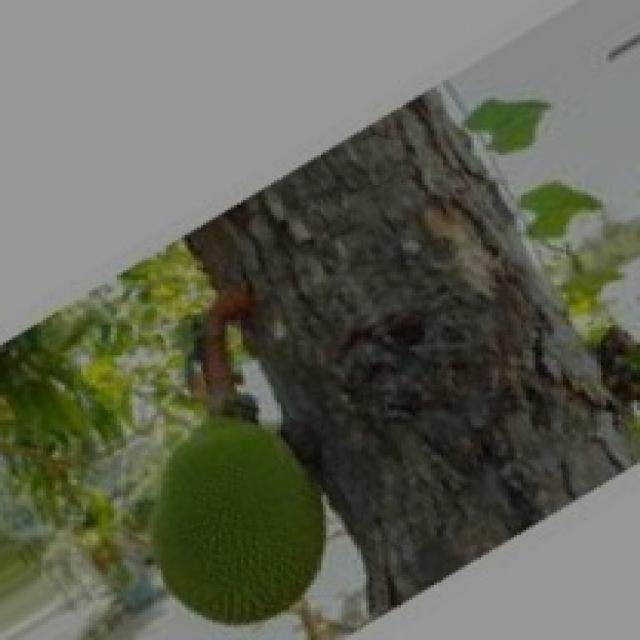Fruit: (114, 392, 351, 640)
